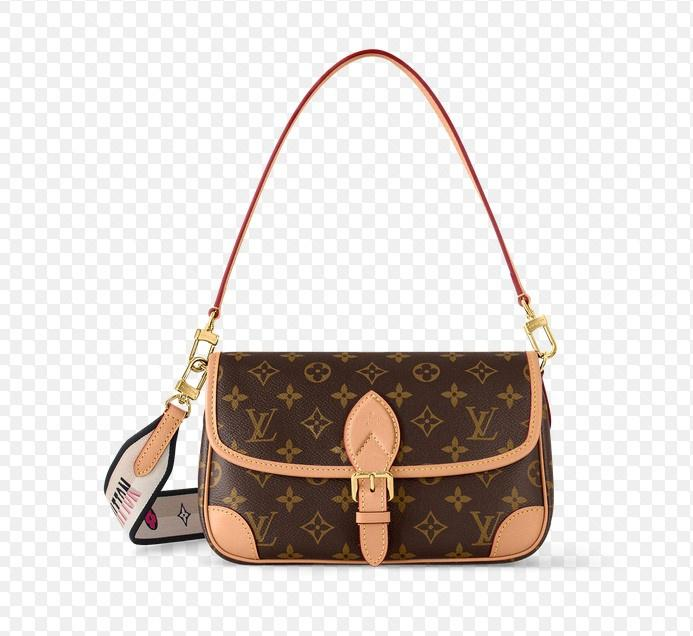LOUIS-VUITTON: (202, 347, 547, 555)
